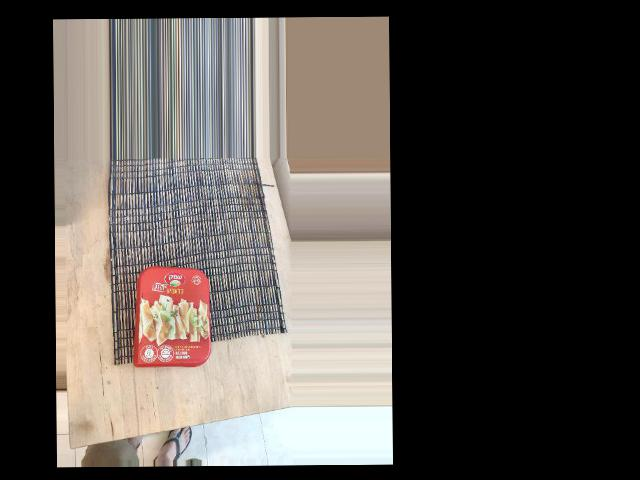cheese: (132, 262, 216, 376)
